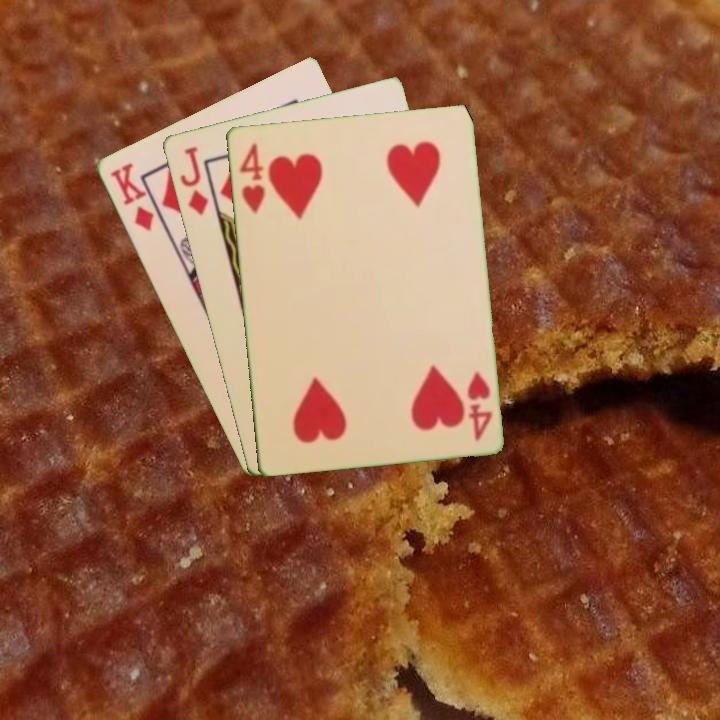4h: (463, 368, 495, 443), (236, 139, 267, 216)
Jd: (176, 143, 211, 218)
Kd: (106, 159, 157, 234)
